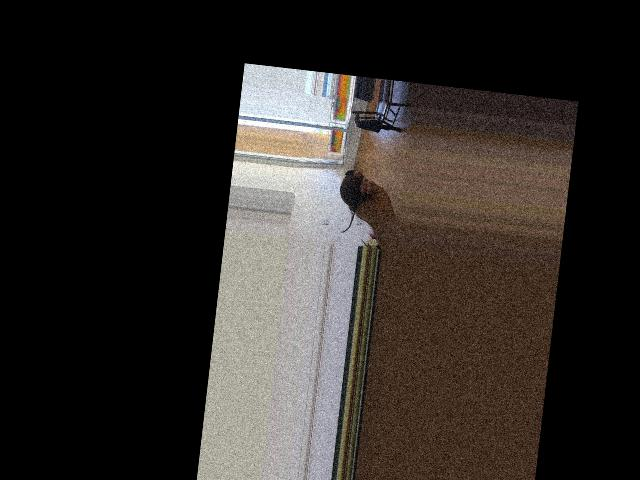beet: (335, 167, 364, 233)
